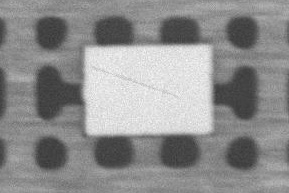DIE_CRACK: (138, 45, 265, 64)
